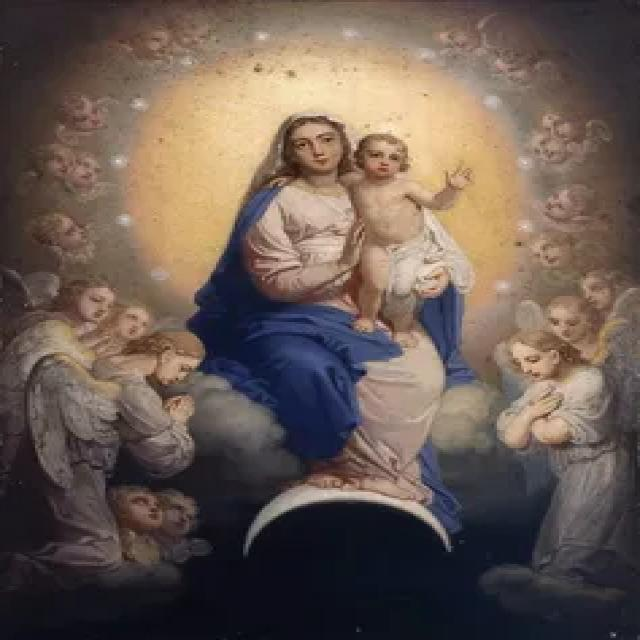mother of god: (169, 105, 489, 485)
